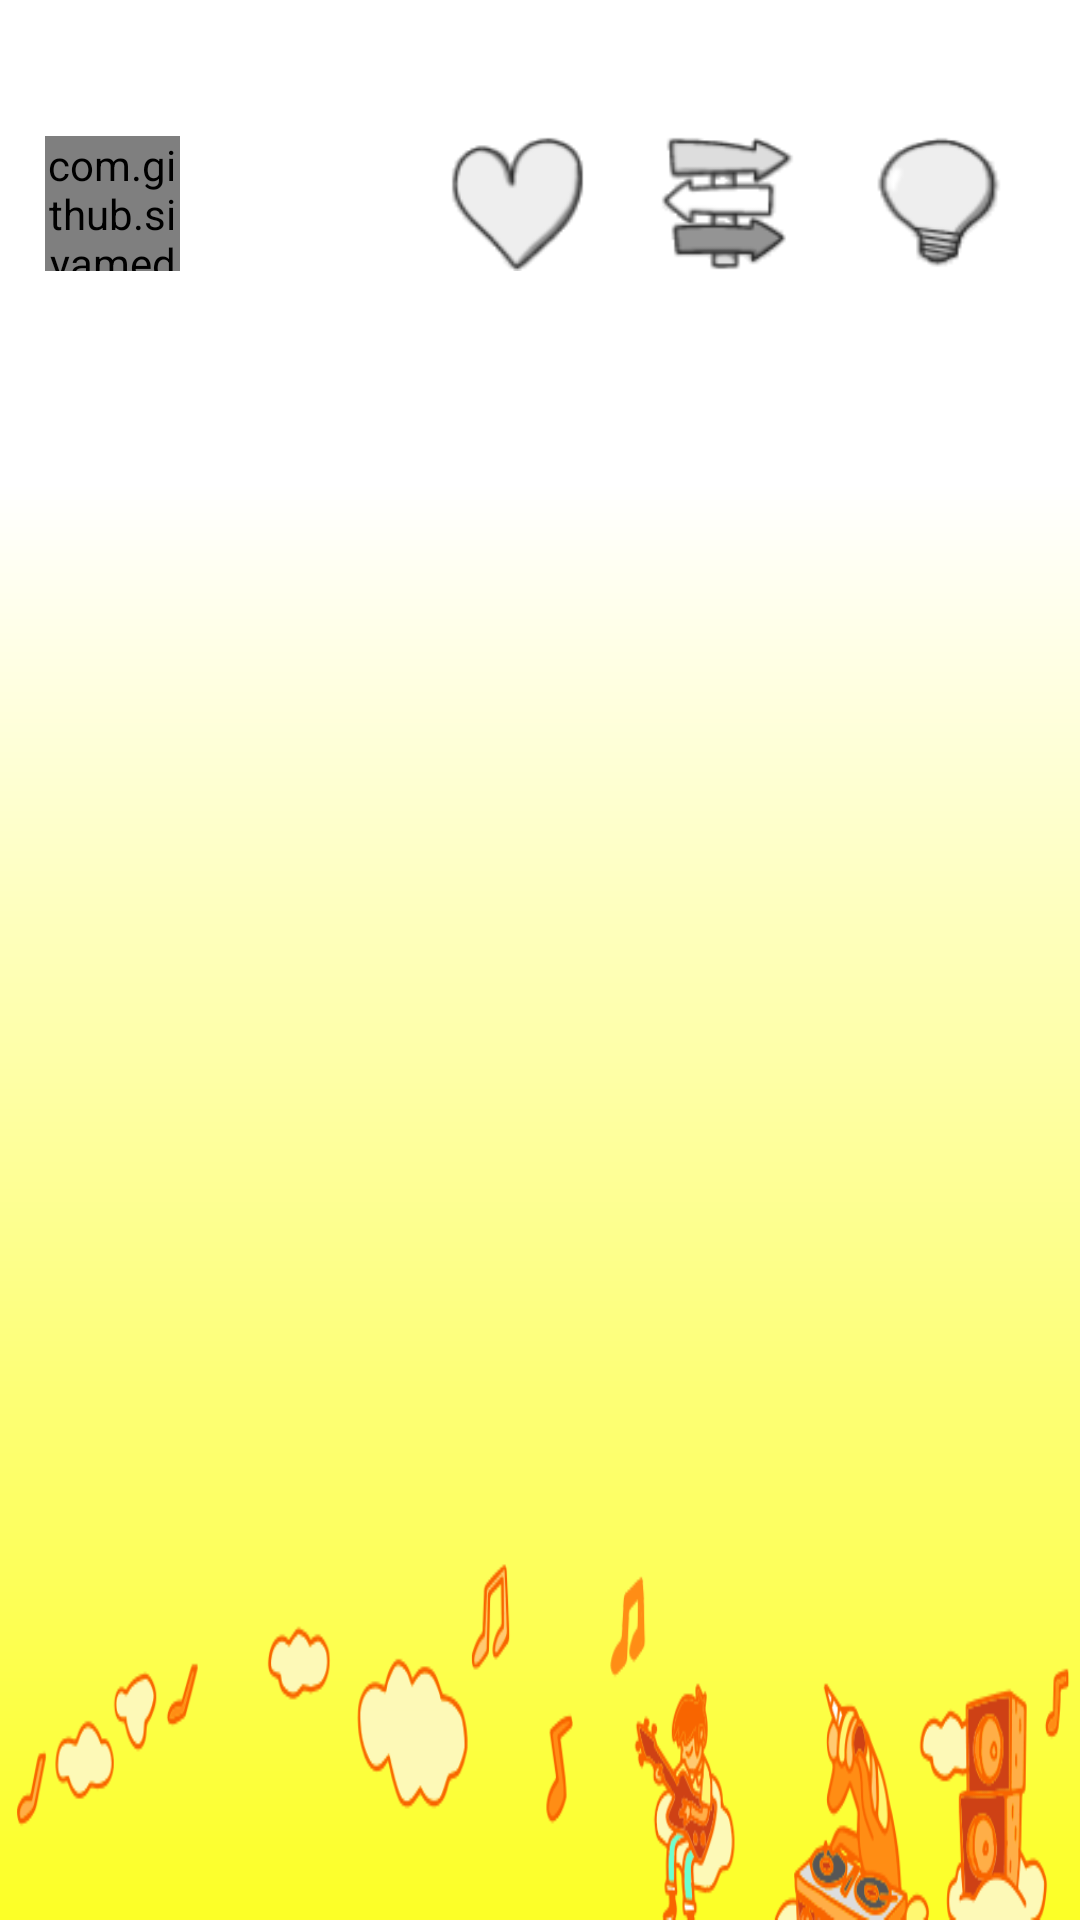

Where icons sit on this 1080*1920 app screen, as (x1, y1, x2, y2):
hexplore: (662, 138, 792, 269)
hlearning: (878, 138, 999, 266)
hrecommended: (452, 138, 583, 271)
